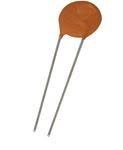ceramic capacitor: (49, 1, 105, 68)
